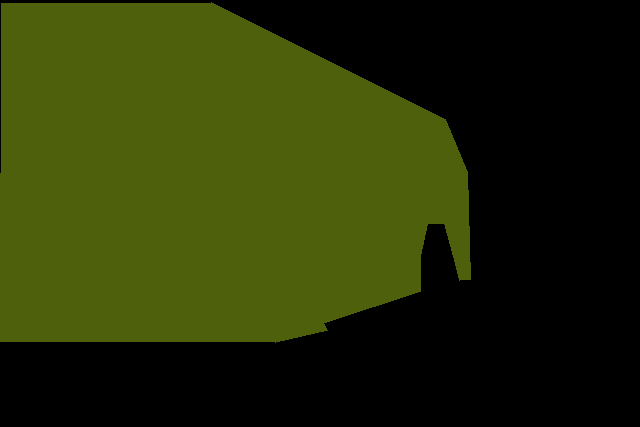Train: (0, 2, 470, 342)
